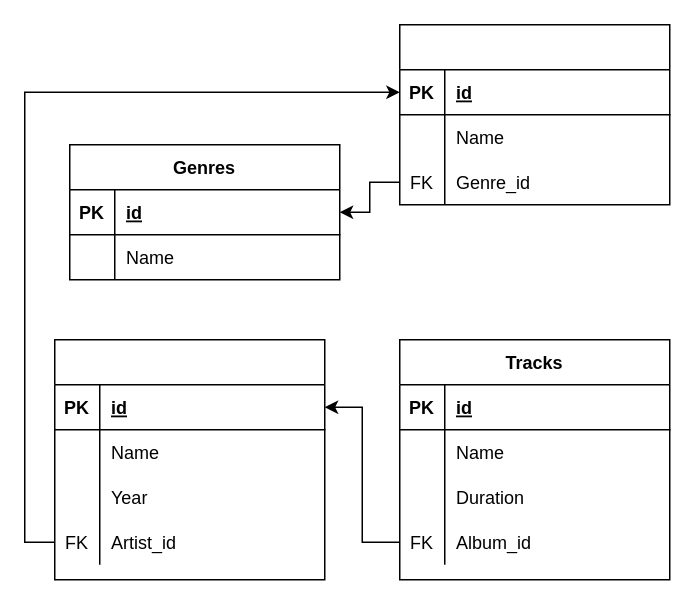
Image size: 695x605. Some labels were removed from this diagram. Each missing label, with the box of its shape:
Albums: (53, 338, 325, 580)
Artists: (398, 23, 670, 205)
